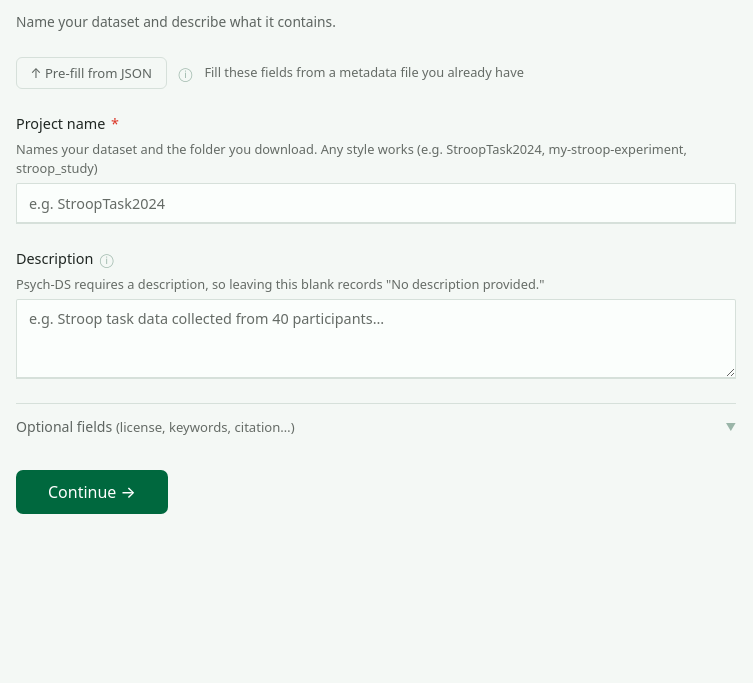
ProjectInfo › help popovers › ⓘ next to Description toggles help text
Check: the text "helps others understand" is not shown
Click the button named "Help for Description". click: (107, 259)
box: top-left (100, 252), bottom-right (114, 266)
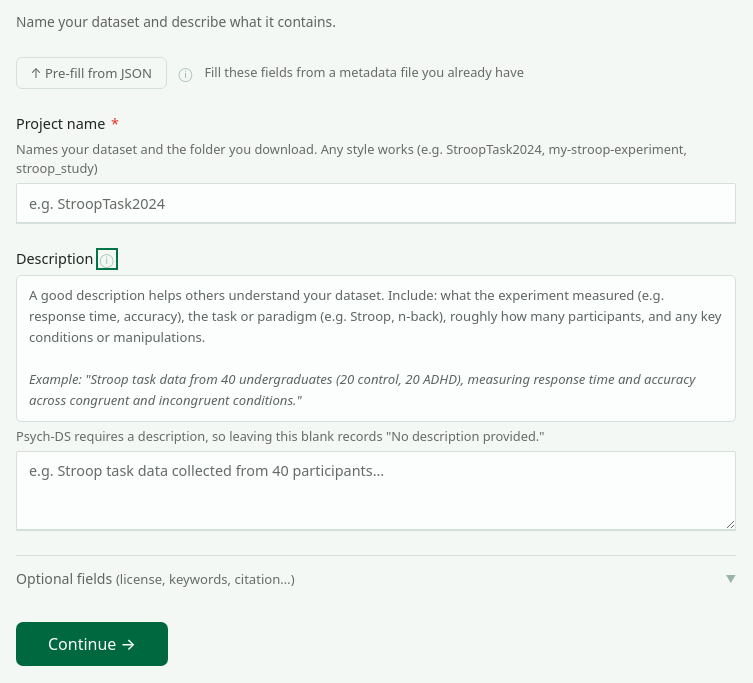
Check: the text "helps others understand" is shown, box top-left (29, 286), bottom-right (722, 346)
Click the button named "Help for Description". click: (107, 259)
box: top-left (100, 252), bottom-right (114, 266)
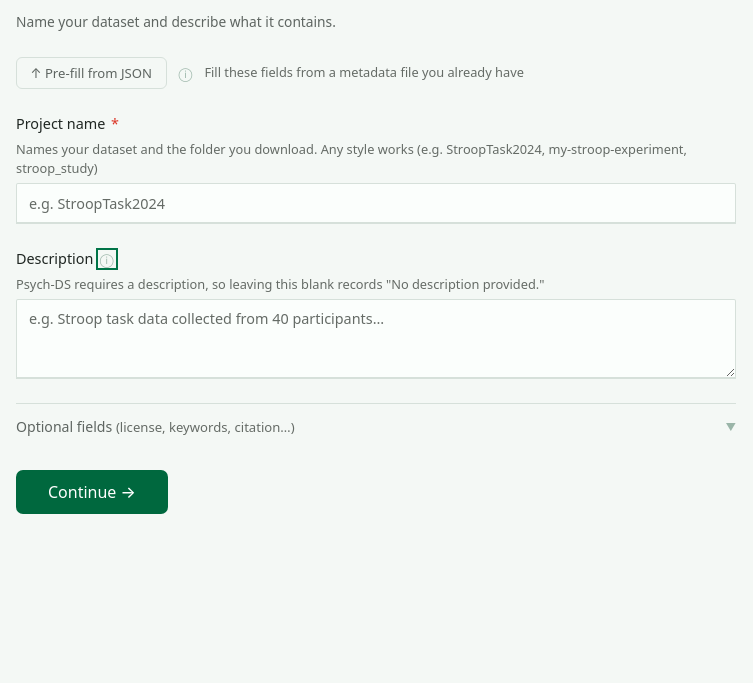
Check: the text "helps others understand" is gone
